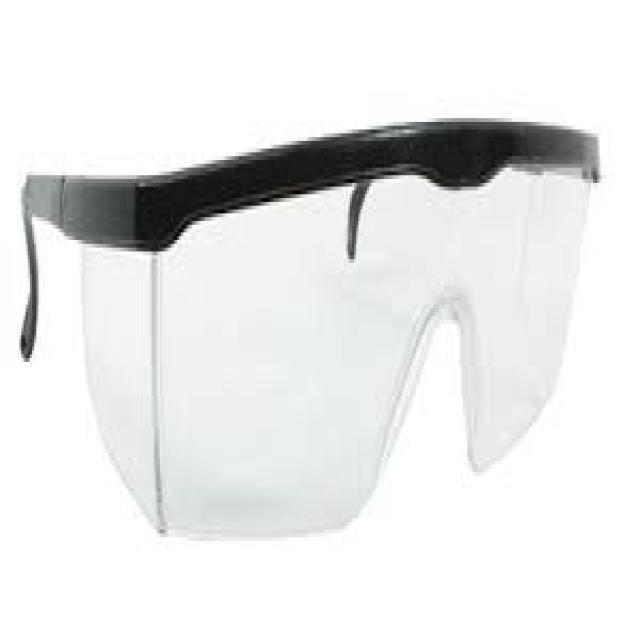oculos-epi: (21, 105, 616, 562)
